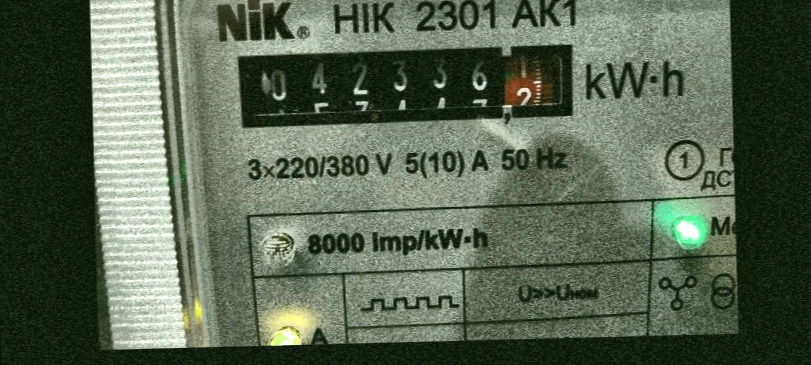0: (266, 69, 287, 105)
1: (514, 54, 527, 83)
2: (347, 63, 368, 100), (511, 88, 531, 110)
3: (388, 58, 408, 97), (426, 57, 446, 94)
4: (307, 61, 327, 99)
6: (465, 59, 488, 95)
screen: (227, 37, 581, 139)
